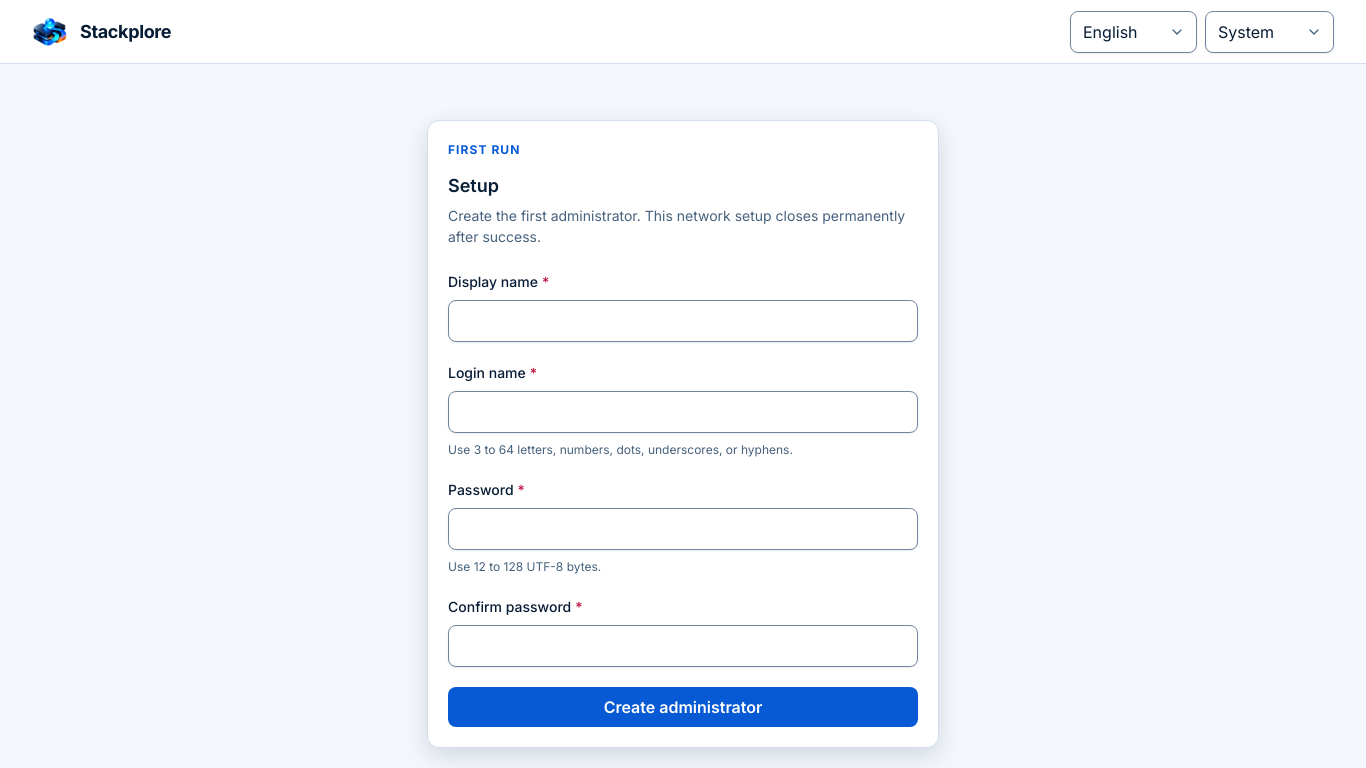
auth routes and forms › blocks mismatched setup passwords before a request
The width and height of the screenshot is (1366, 768).
Type "Operations" into the field labelled "Display name*".
click(683, 321); type("Operations")  # box [448,300,918,342]
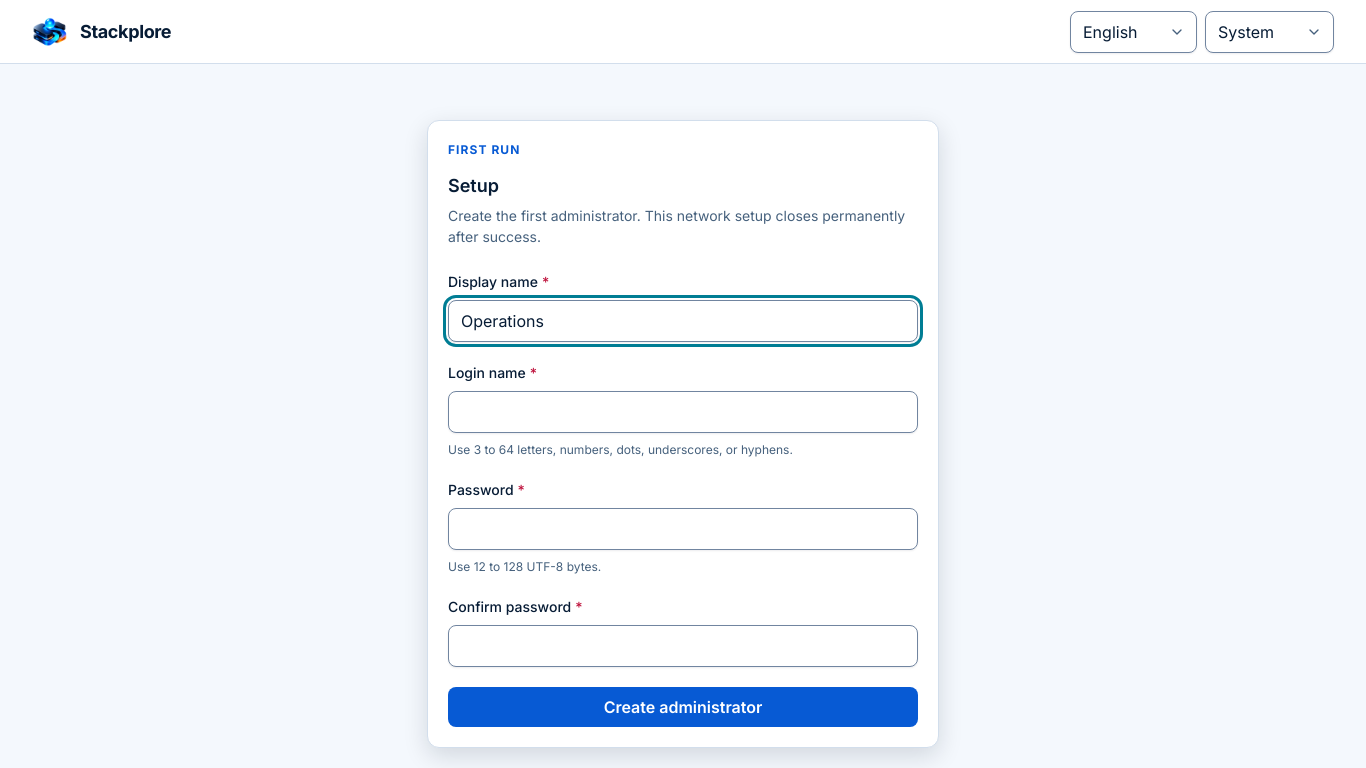
Type "operator" into the field labelled "Login name*".
click(683, 412); type("operator")  # box [448,391,918,433]
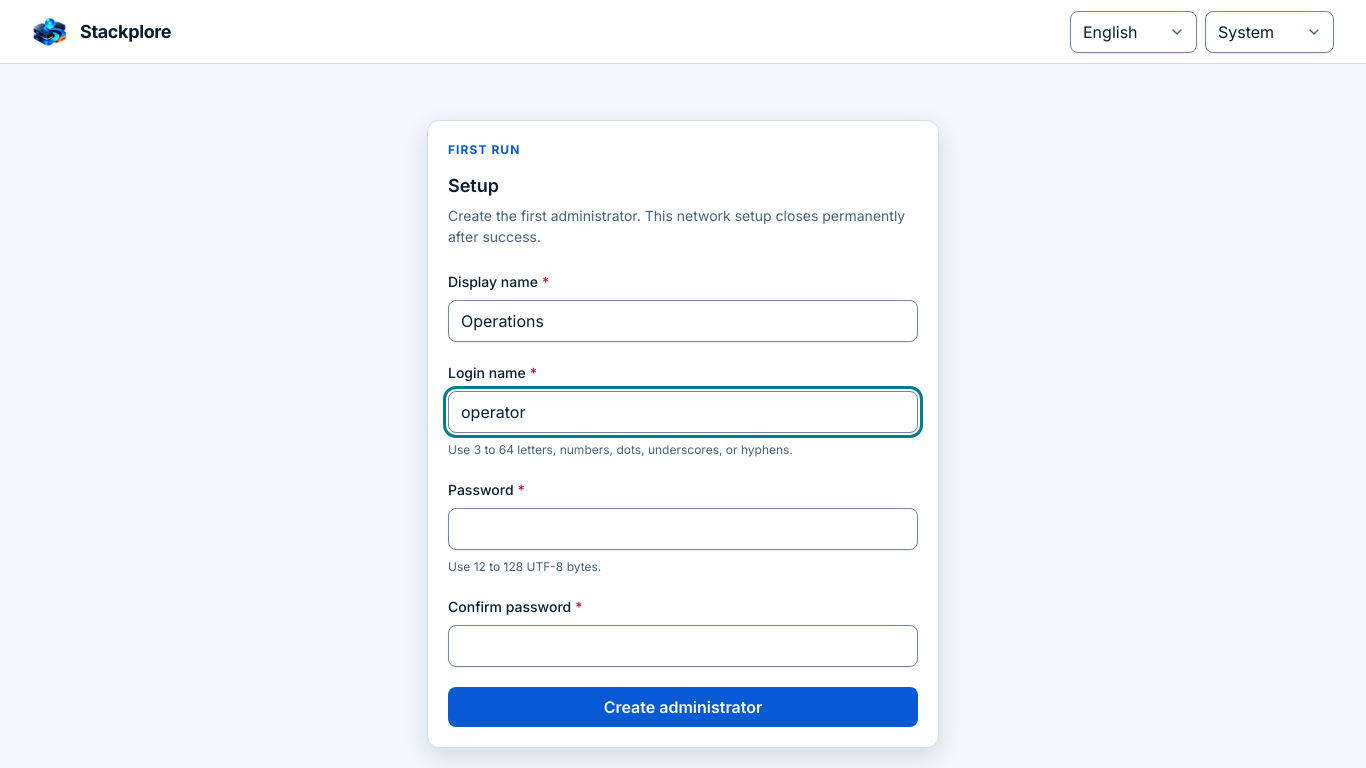
Type "long-password" into the password field labelled "Password*".
click(683, 529); type("long-password")  # box [448,508,918,550]
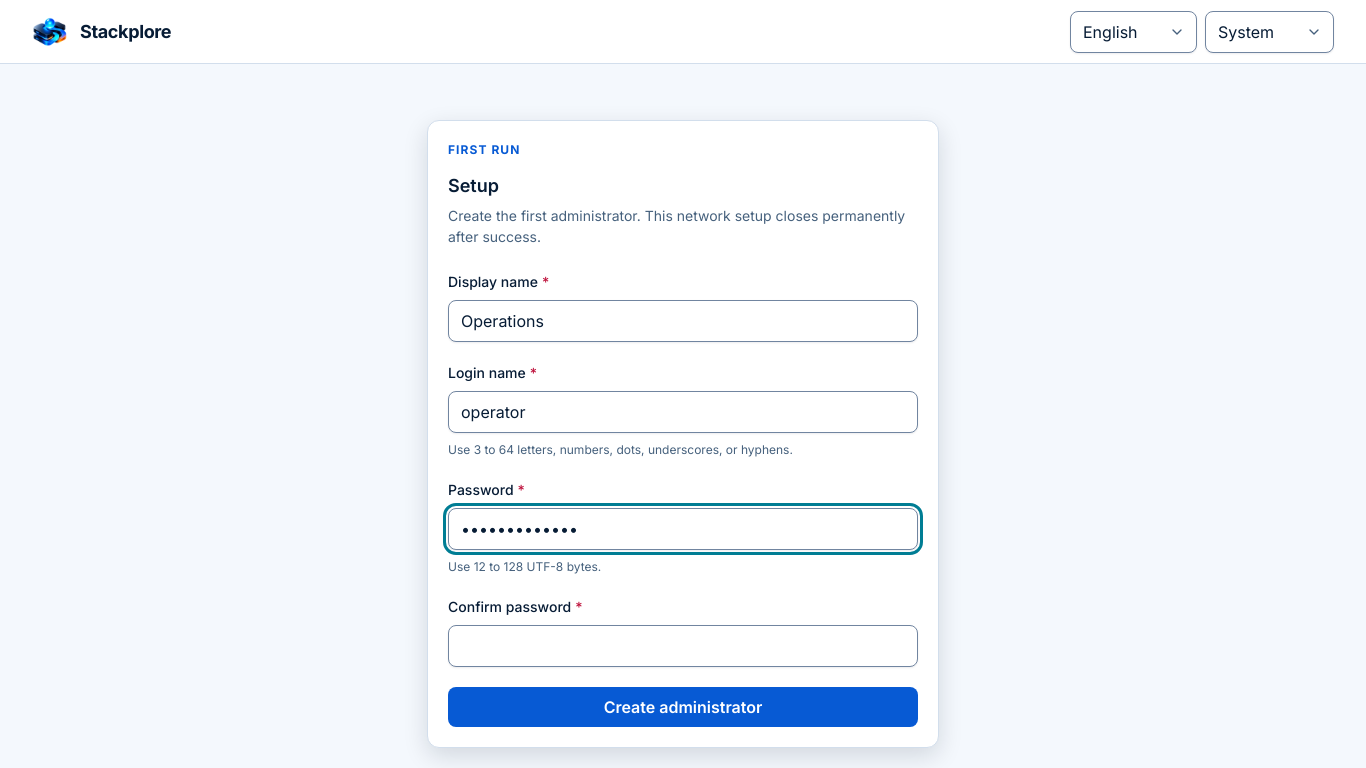
Type "other-password" into the password field labelled "Confirm password*".
click(683, 646); type("other-password")  # box [448,625,918,667]
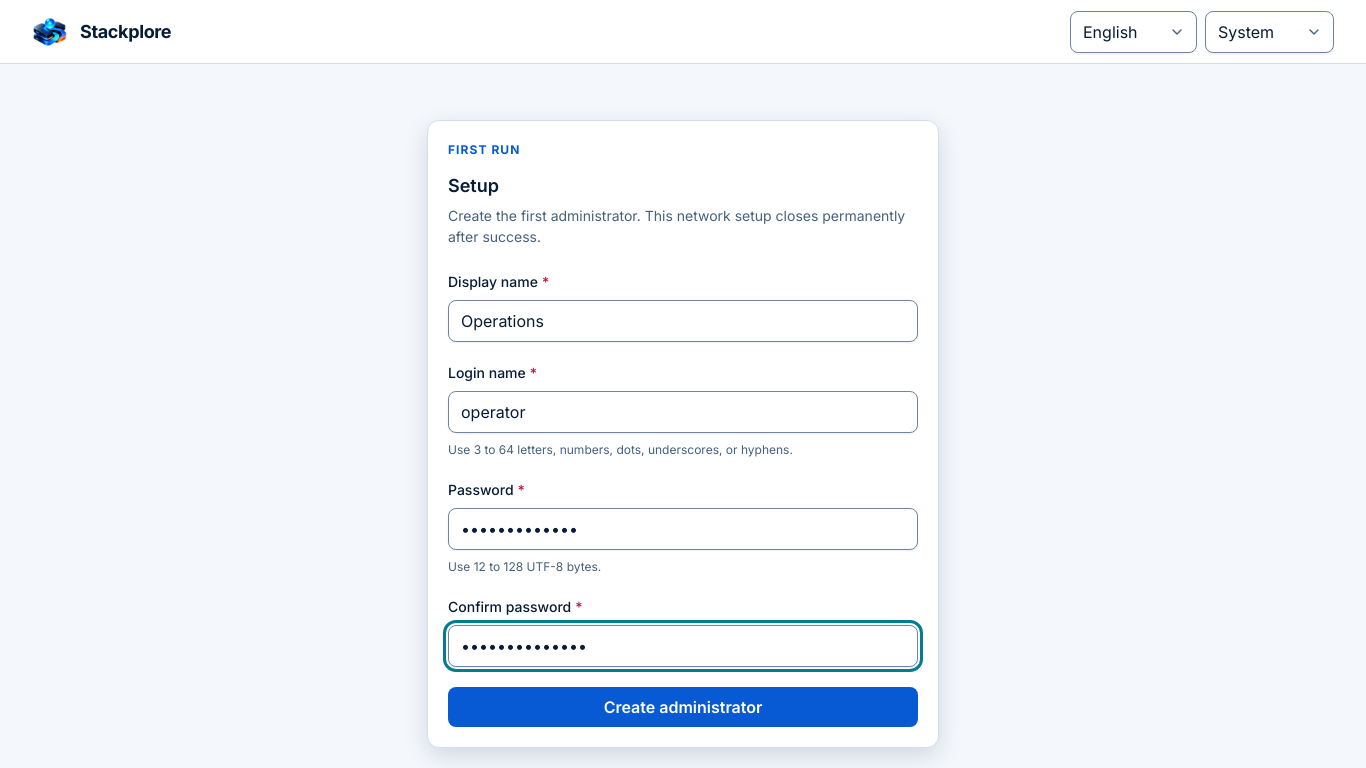
Click the button "Create administrator".
click(683, 707)  # box [448,687,918,727]
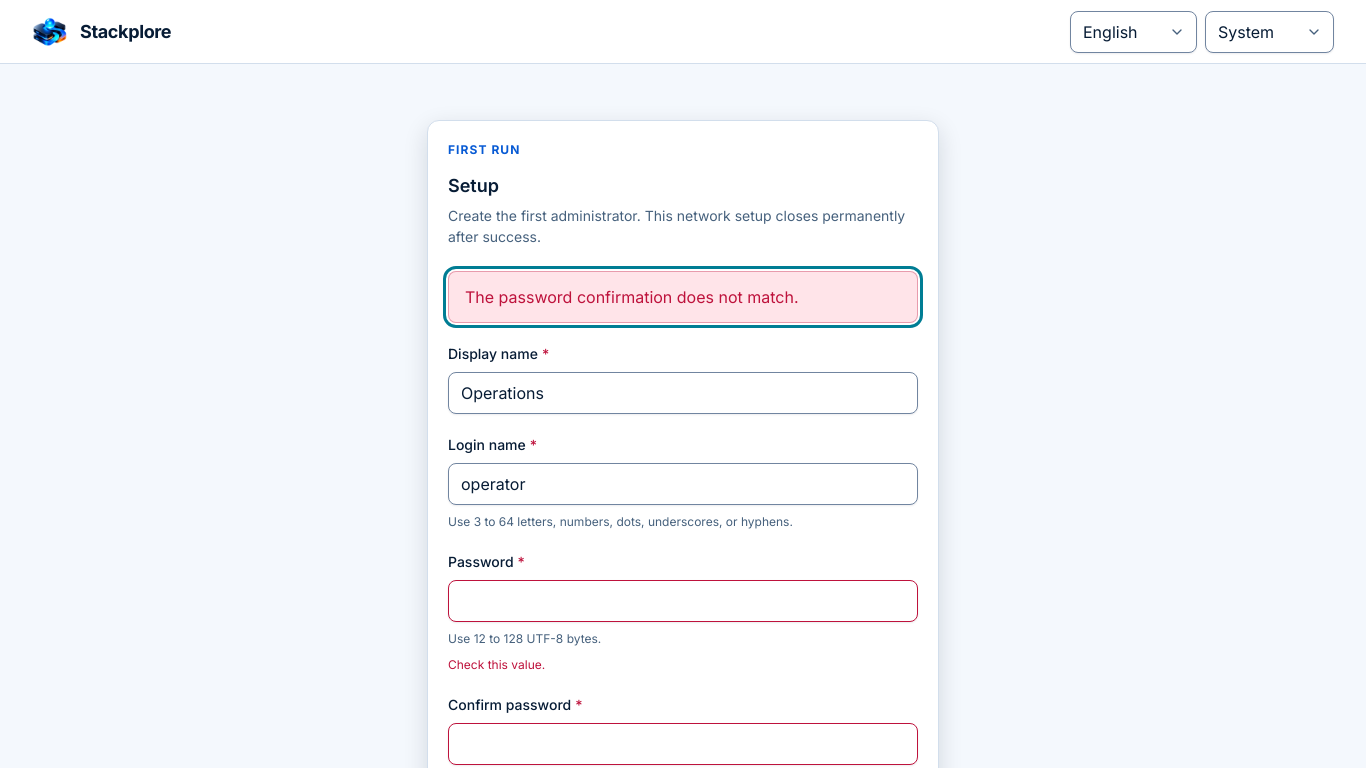
Expected: the text "The password confirmation does not match." is shown, [448,271,918,323]
